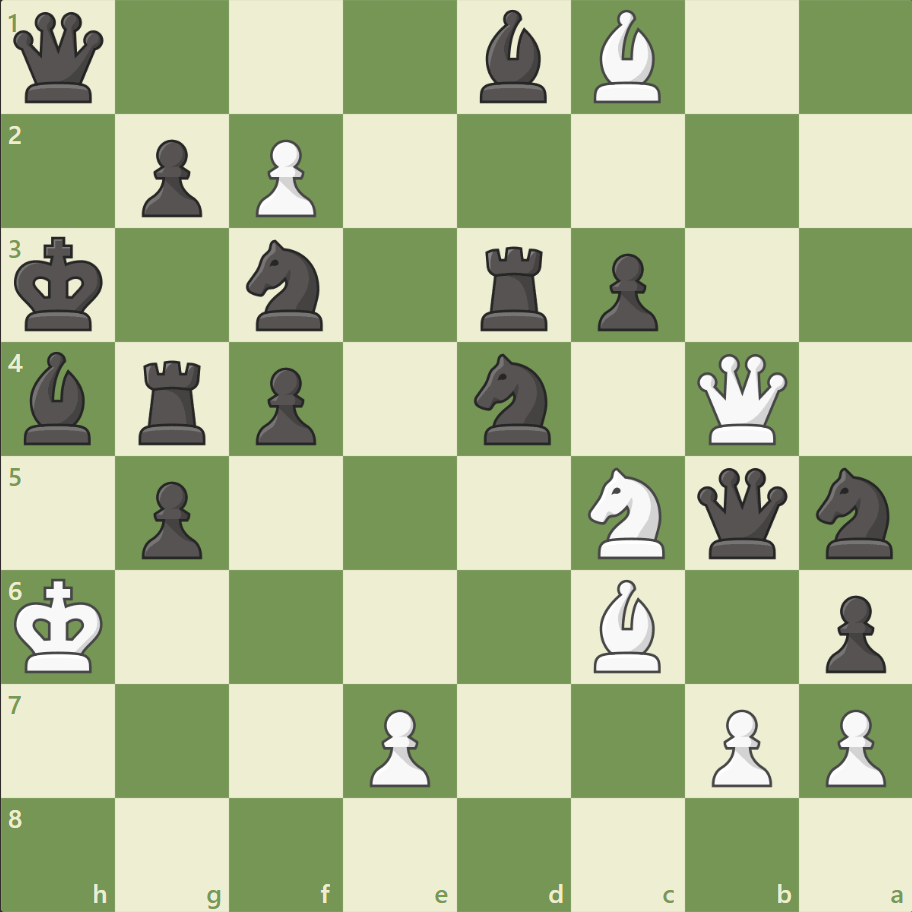B: (585, 6, 669, 109), (585, 574, 669, 676)
K: (11, 571, 111, 679)
N: (579, 461, 676, 564)
P: (701, 700, 776, 791), (247, 132, 322, 223), (815, 700, 889, 791), (361, 700, 435, 791)
Q: (691, 349, 790, 449)
b: (471, 6, 555, 109), (17, 347, 101, 449)
k: (11, 231, 111, 339)
n: (806, 461, 903, 564), (238, 234, 335, 337), (465, 348, 562, 450)
p: (133, 473, 208, 564), (247, 359, 322, 450), (133, 132, 208, 223), (815, 586, 889, 677), (588, 246, 662, 337)
q: (691, 463, 790, 562), (10, 9, 109, 108)
r: (473, 239, 556, 336), (133, 352, 215, 449)
